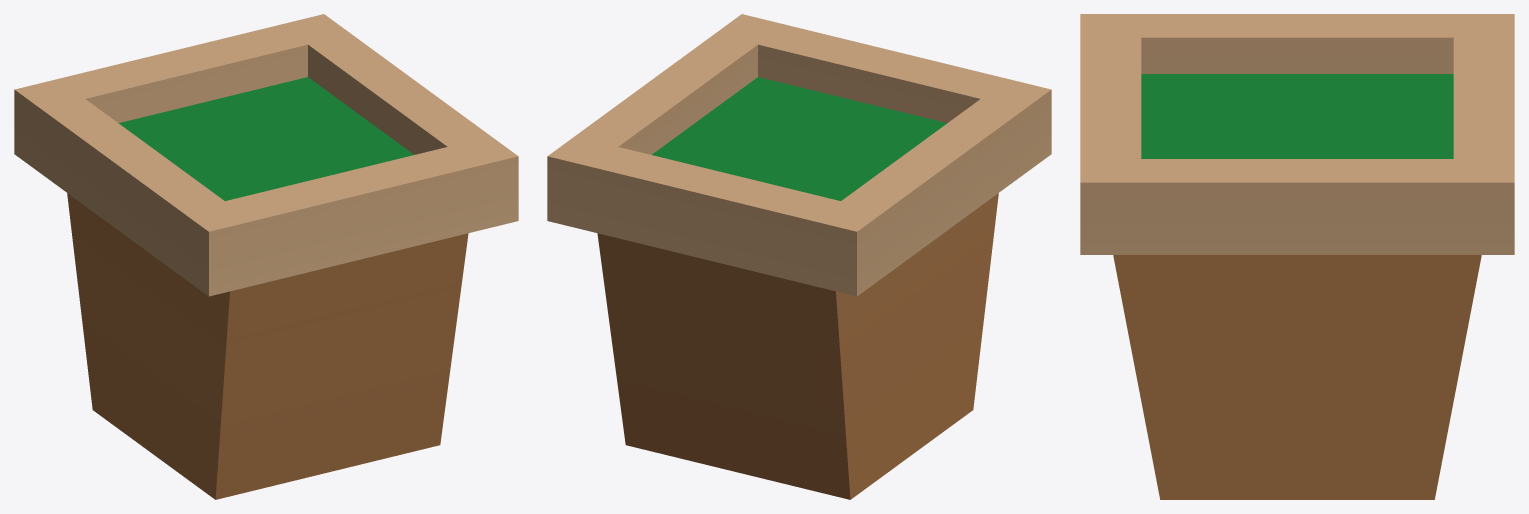
Rendered from FlowerPot_5_3_A.fbx.
3 views of the same model, side by side, from view 1: azimuth 30°, elevation 25°; view 2: azimuth 150°, elevation 25°; view 3: azimuth 270°, elevation 25° (orthographic). The views are drawn at different scales.
Parts seen in each view (by area): view 1: FlowerPot_5_3_A; view 2: FlowerPot_5_3_A; view 3: FlowerPot_5_3_A.
Part boxes in pixels (<box>): FlowerPot_5_3_A: <box>14,14,518,499</box>; FlowerPot_5_3_A: <box>547,14,1051,499</box>; FlowerPot_5_3_A: <box>1080,14,1514,499</box>.
Bounding box in the file's own units: 32.46 × 30.52 × 35.3.
